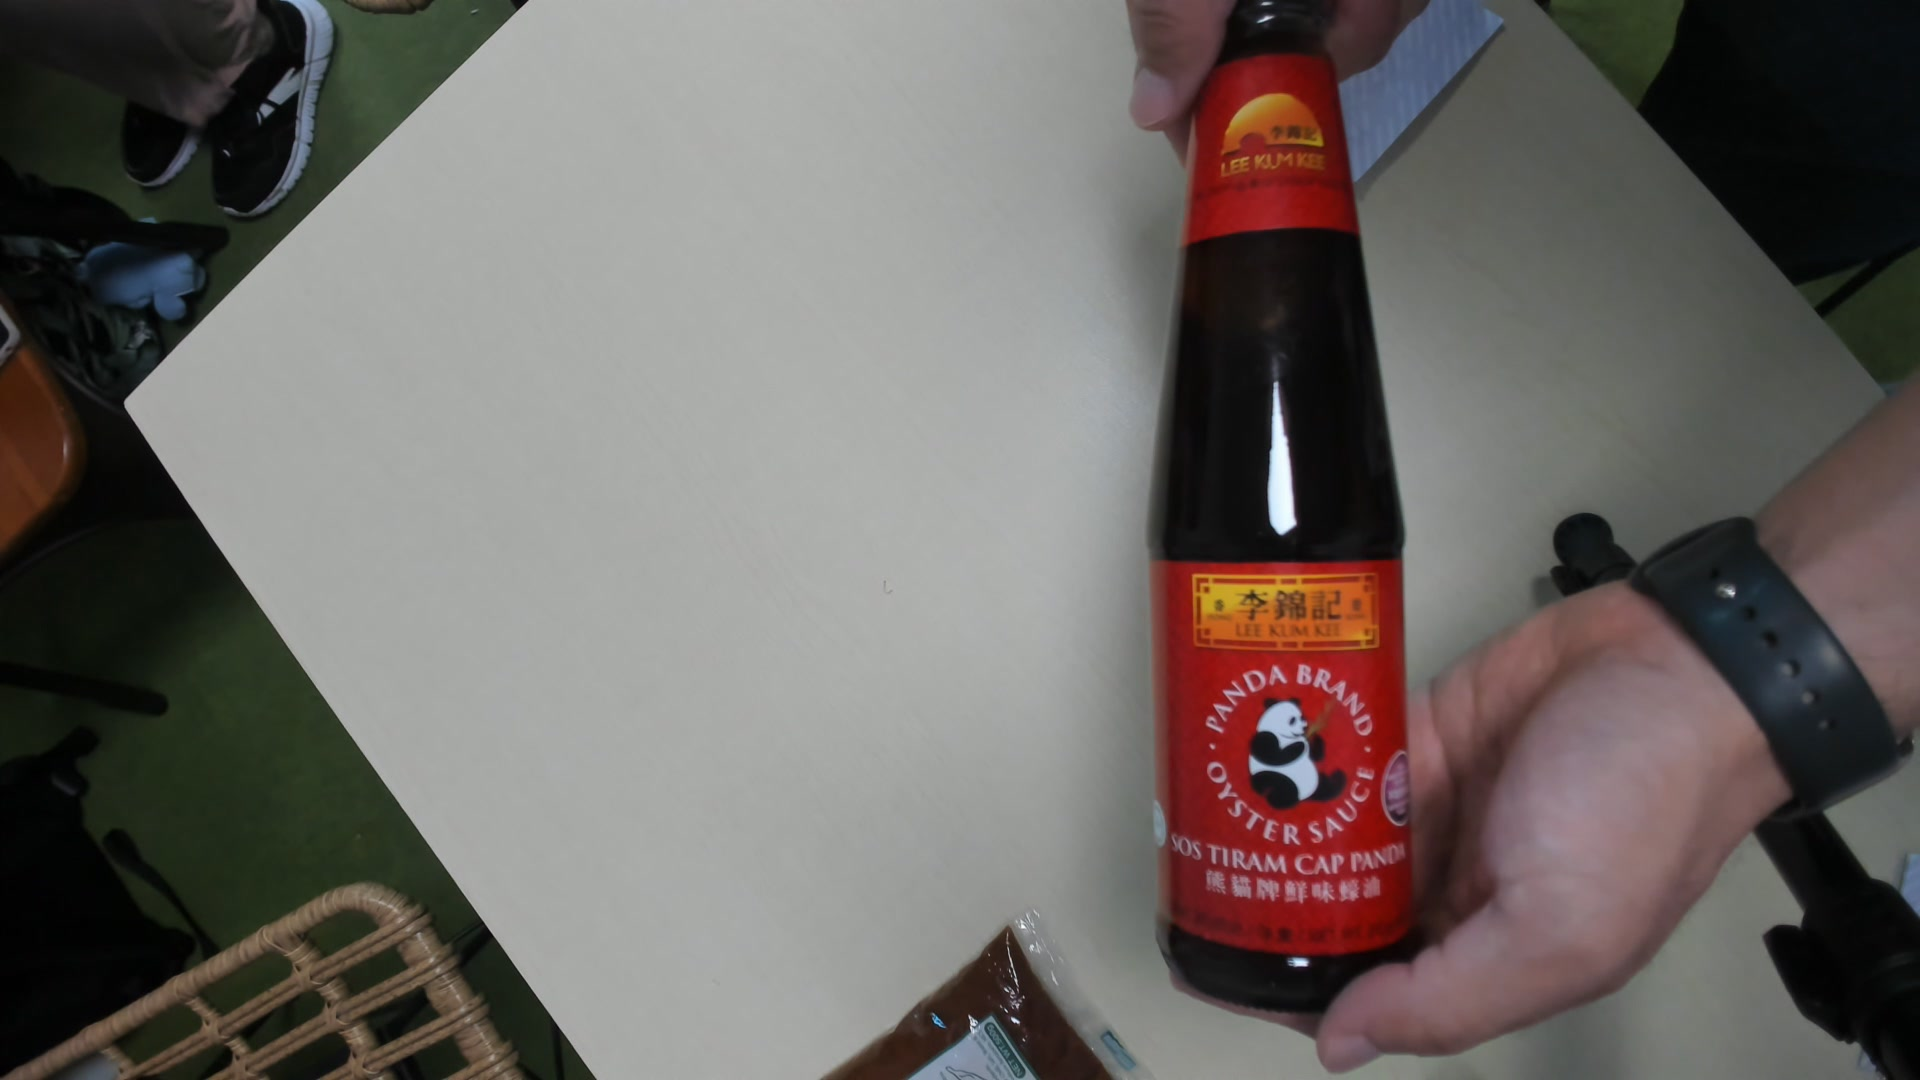OtherSauceDressingSoupbasePaste_500-599g_Halal_NonHealthy: (1150, 7, 1414, 1025)
